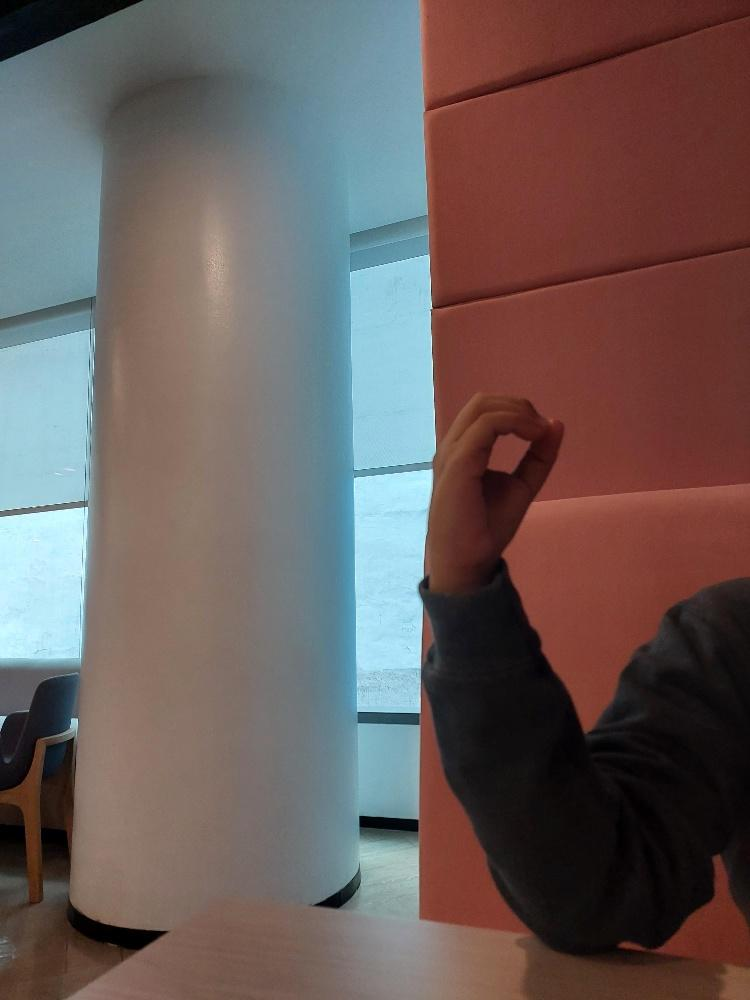o: (420, 380, 574, 585)
